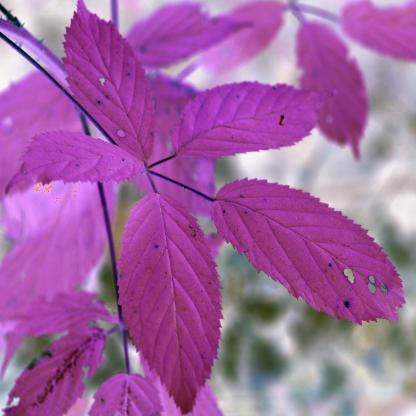raspberry leaf: (213, 173, 408, 331), (115, 190, 226, 416), (62, 0, 159, 165), (175, 80, 334, 161), (1, 129, 137, 202)
